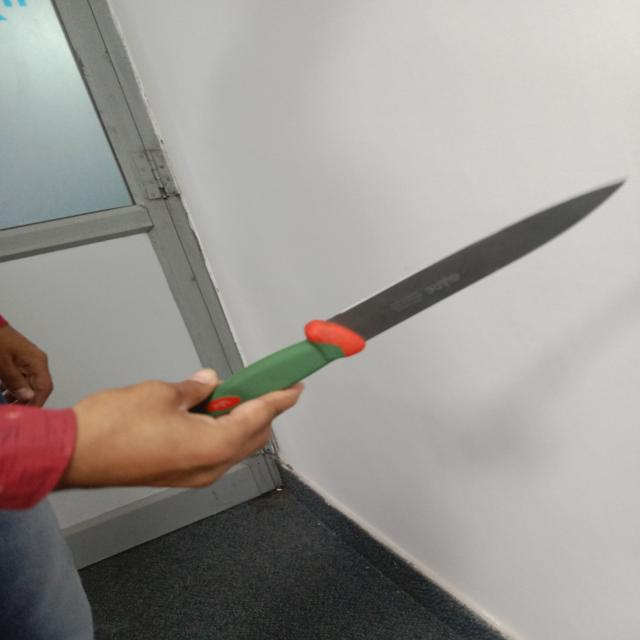Knife: (192, 180, 625, 417)
